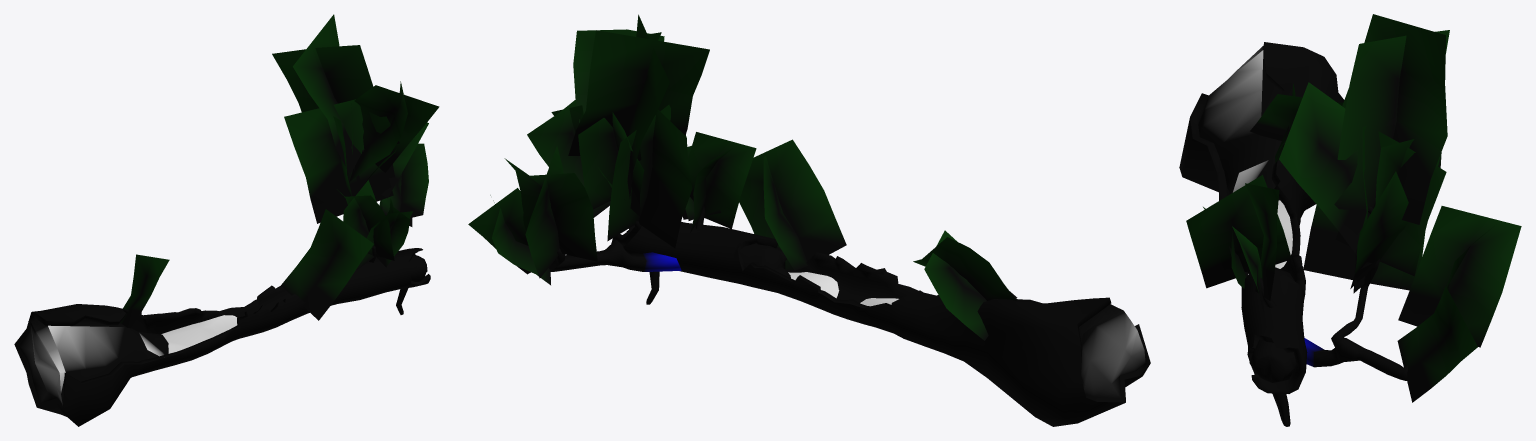
File: BeecthTreeDeadBark_LOD1.fbx
3 views of the same model, side by side, from view 1: azimuth 30°, elevation 25°; view 2: azimuth 150°, elevation 25°; view 3: azimuth 270°, elevation 25° (orthographic). The views are drawn at different scales.
Parts seen in each view (by area): view 1: BeechTrunk_Leaves_LOD1, BeechTrunkDead_Core_LOD1, BeechTrunkDead_LOD1, BeechTrunkDead_Cut_LOD1, BeechTrunkDead_Stiks_LOD1; view 2: BeechTrunk_Leaves_LOD1, BeechTrunkDead_LOD1, BeechTrunkDead_Core_LOD1, BeechTrunkDead_Cut_LOD1, BeechTrunkDead_Stiks_LOD1; view 3: BeechTrunk_Leaves_LOD1, BeechTrunkDead_LOD1, BeechTrunkDead_Core_LOD1, BeechTrunkDead_Stiks_LOD1.
Part boxes in pixels (box(x1,y1,x2,y2)): BeechTrunk_Leaves_LOD1: box(120, 14, 439, 328); BeechTrunkDead_Core_LOD1: box(14, 251, 430, 412); BeechTrunkDead_LOD1: box(15, 149, 430, 426); BeechTrunkDead_Cut_LOD1: box(18, 321, 62, 405); BeechTrunkDead_Stiks_LOD1: box(161, 315, 237, 353); BeechTrunk_Leaves_LOD1: box(468, 14, 1017, 340); BeechTrunkDead_LOD1: box(549, 207, 1149, 426); BeechTrunkDead_Core_LOD1: box(626, 230, 1150, 402); BeechTrunkDead_Cut_LOD1: box(1081, 310, 1145, 398); BeechTrunkDead_Stiks_LOD1: box(788, 272, 898, 306); BeechTrunk_Leaves_LOD1: box(1186, 14, 1521, 402); BeechTrunkDead_LOD1: box(1179, 42, 1408, 426); BeechTrunkDead_Core_LOD1: box(1190, 44, 1305, 393); BeechTrunkDead_Stiks_LOD1: box(1248, 200, 1292, 274).
Size of the model in its own units: 11.37 by 6.61 by 5.12.
